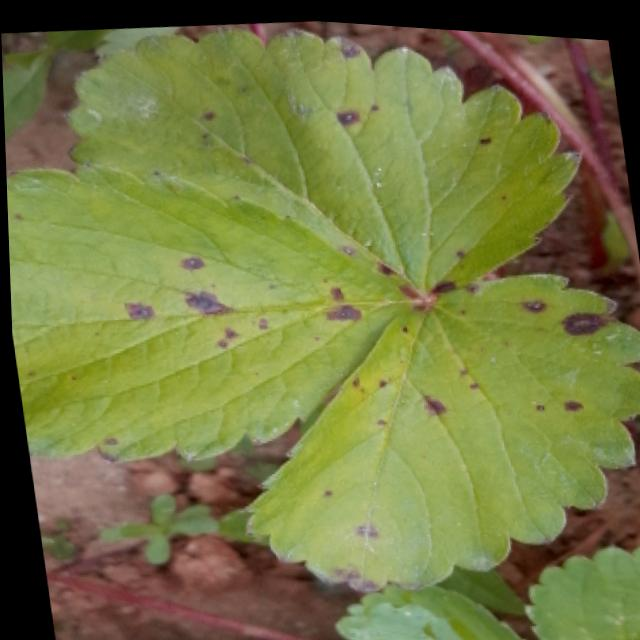Leaf Spot: (62, 21, 582, 293), (239, 265, 640, 591), (5, 159, 427, 465)
